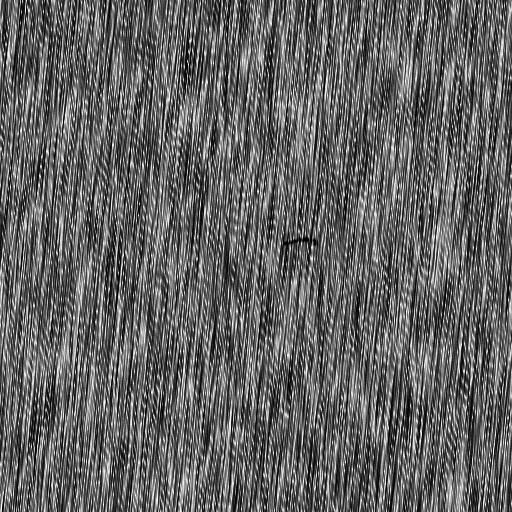DefectTypeC: (277, 237, 320, 249)
